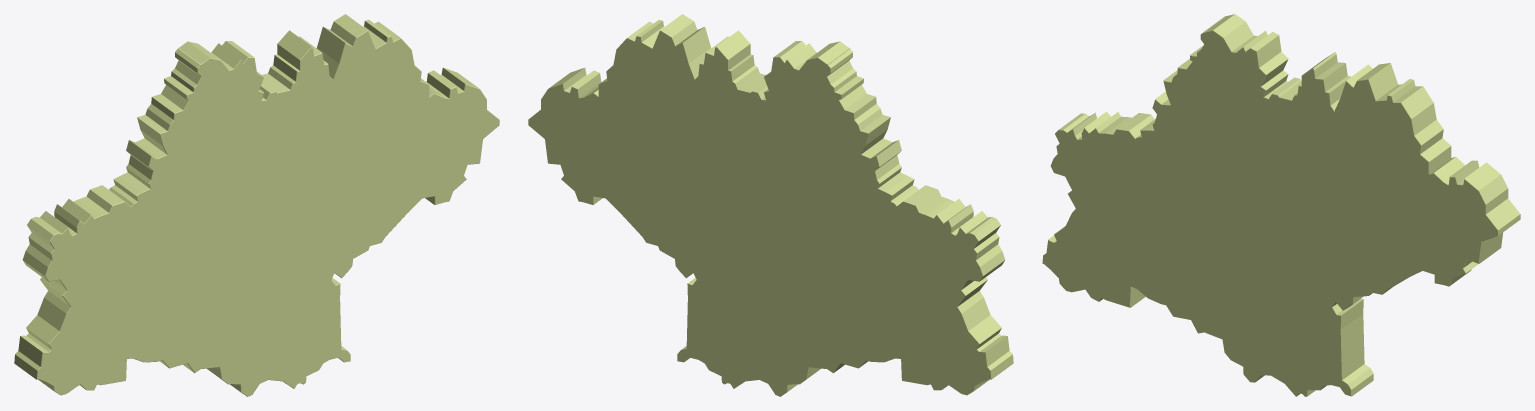
Rendered from Occitanie.glb.
3 views of the same model, side by side, from view 1: azimuth 30°, elevation 25°; view 2: azimuth 150°, elevation 25°; view 3: azimuth 330°, elevation 25° (orthographic).
Visible parts, largest first — view 1: Occitania; view 2: Occitania; view 3: Occitania.
Part boxes in pixels (x1,y1,x2,y2): Occitania: (14,14,499,396); Occitania: (528,14,1013,396); Occitania: (1042,14,1520,396).
Size of the model in its own units: 1.52 by 1.1 by 0.1283.
